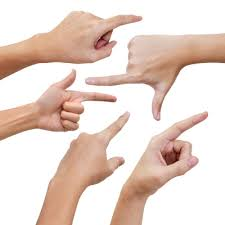hand: (44, 105, 155, 179), (126, 107, 222, 191), (29, 3, 146, 66), (31, 69, 122, 130)
